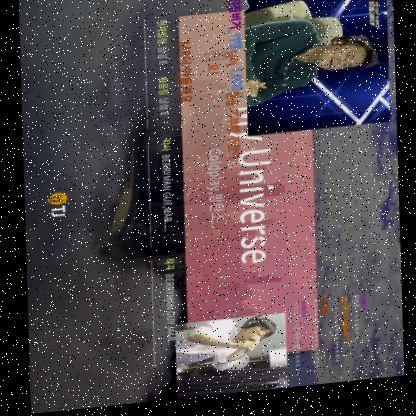donation: (173, 0, 395, 169)
streamer: (173, 320, 276, 379)
